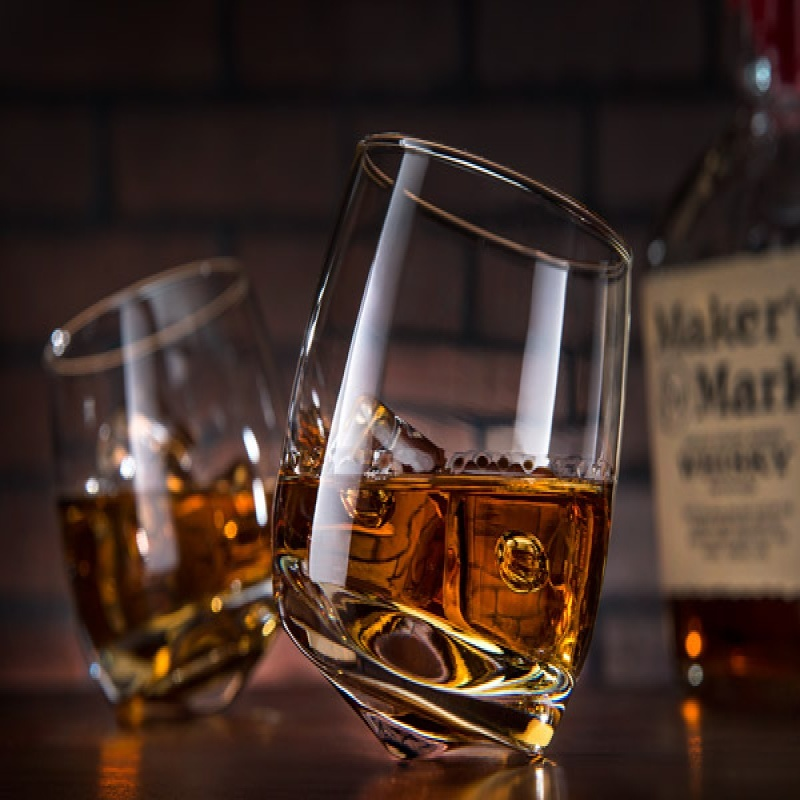whiskey: (265, 120, 622, 753)
